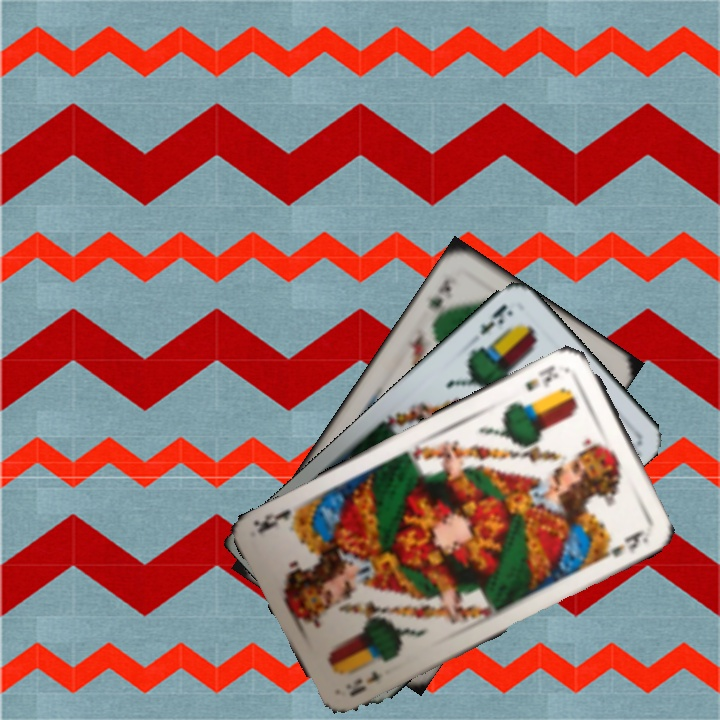EK: (521, 361, 561, 394), (476, 299, 510, 337), (345, 666, 383, 699)
GK: (424, 273, 459, 313)
